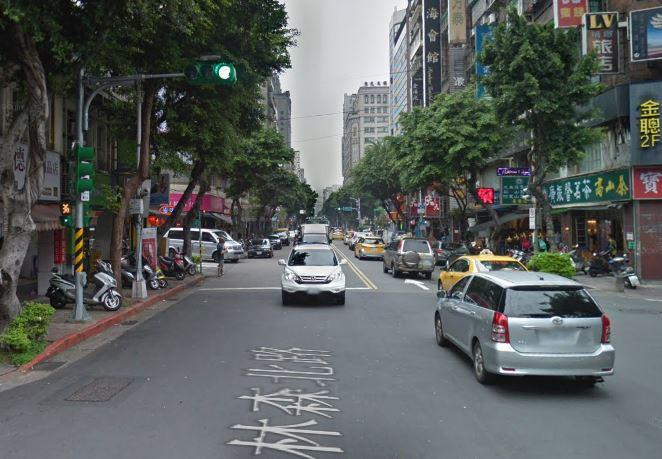green_traffic_light: (184, 61, 238, 83)
